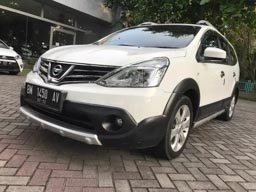plat: (25, 83, 62, 111)
